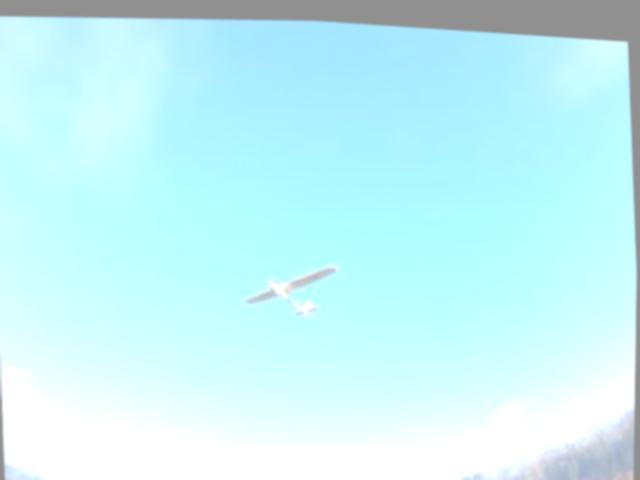uav: (232, 243, 352, 333)
